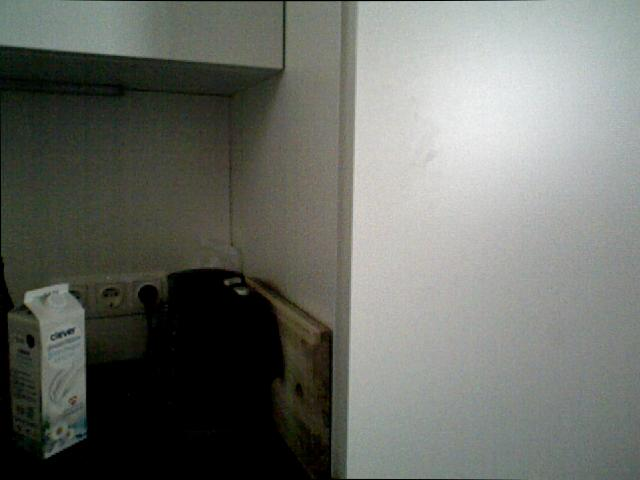bench: (8, 285, 93, 462)
hot dog: (351, 0, 640, 480)
